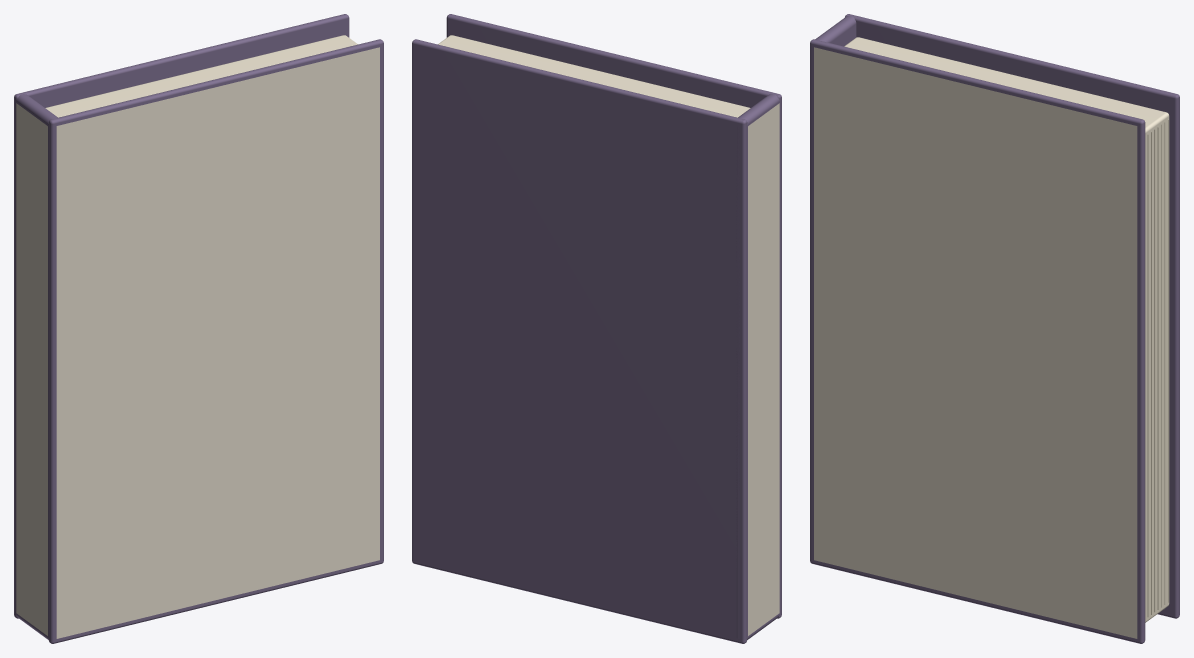
File: book.glb
The picture shows the model from 3 angles, left to right: view 1: azimuth 30°, elevation 25°; view 2: azimuth 150°, elevation 25°; view 3: azimuth 330°, elevation 25°; orthographic projection.
Parts seen in each view (by area): view 1: Cover image, Spine image, Front cover with softly beveled edges, Back cover with softly beveled edges, Inset paper block, Rounded cloth binding; view 2: Back cover with softly beveled edges, Spine image, Front cover with softly beveled edges, Inset paper block, Rounded cloth binding; view 3: Cover image, Inset paper block, Back cover with softly beveled edges, Front cover with softly beveled edges, Paper leaf edge 01, Paper leaf edge 03, Paper leaf edge 04, Paper leaf edge 06, Rounded cloth binding.
Boxes of the visible parts, bbox=[...] form: Cover image: bbox=[56, 47, 379, 638]; Spine image: bbox=[16, 103, 47, 635]; Front cover with softly beveled edges: bbox=[48, 39, 383, 643]; Back cover with softly beveled edges: bbox=[14, 14, 349, 618]; Inset paper block: bbox=[45, 35, 357, 117]; Rounded cloth binding: bbox=[15, 94, 57, 639]; Back cover with softly beveled edges: bbox=[412, 39, 747, 643]; Spine image: bbox=[748, 103, 779, 635]; Front cover with softly beveled edges: bbox=[446, 14, 781, 618]; Inset paper block: bbox=[438, 35, 750, 117]; Rounded cloth binding: bbox=[736, 94, 780, 639]; Cover image: bbox=[814, 47, 1137, 638]; Inset paper block: bbox=[844, 37, 1169, 622]; Back cover with softly beveled edges: bbox=[845, 14, 1179, 618]; Front cover with softly beveled edges: bbox=[810, 39, 1145, 643]; Paper leaf edge 01: bbox=[1164, 122, 1165, 604]; Paper leaf edge 03: bbox=[1157, 127, 1158, 609]; Paper leaf edge 04: bbox=[1154, 129, 1155, 612]; Paper leaf edge 06: bbox=[1147, 135, 1148, 616]; Rounded cloth binding: bbox=[815, 15, 856, 46].
Size of the model in its own units: 1.2 by 1.8 by 0.2405.
Materials: 5 (2 with a texture image).
